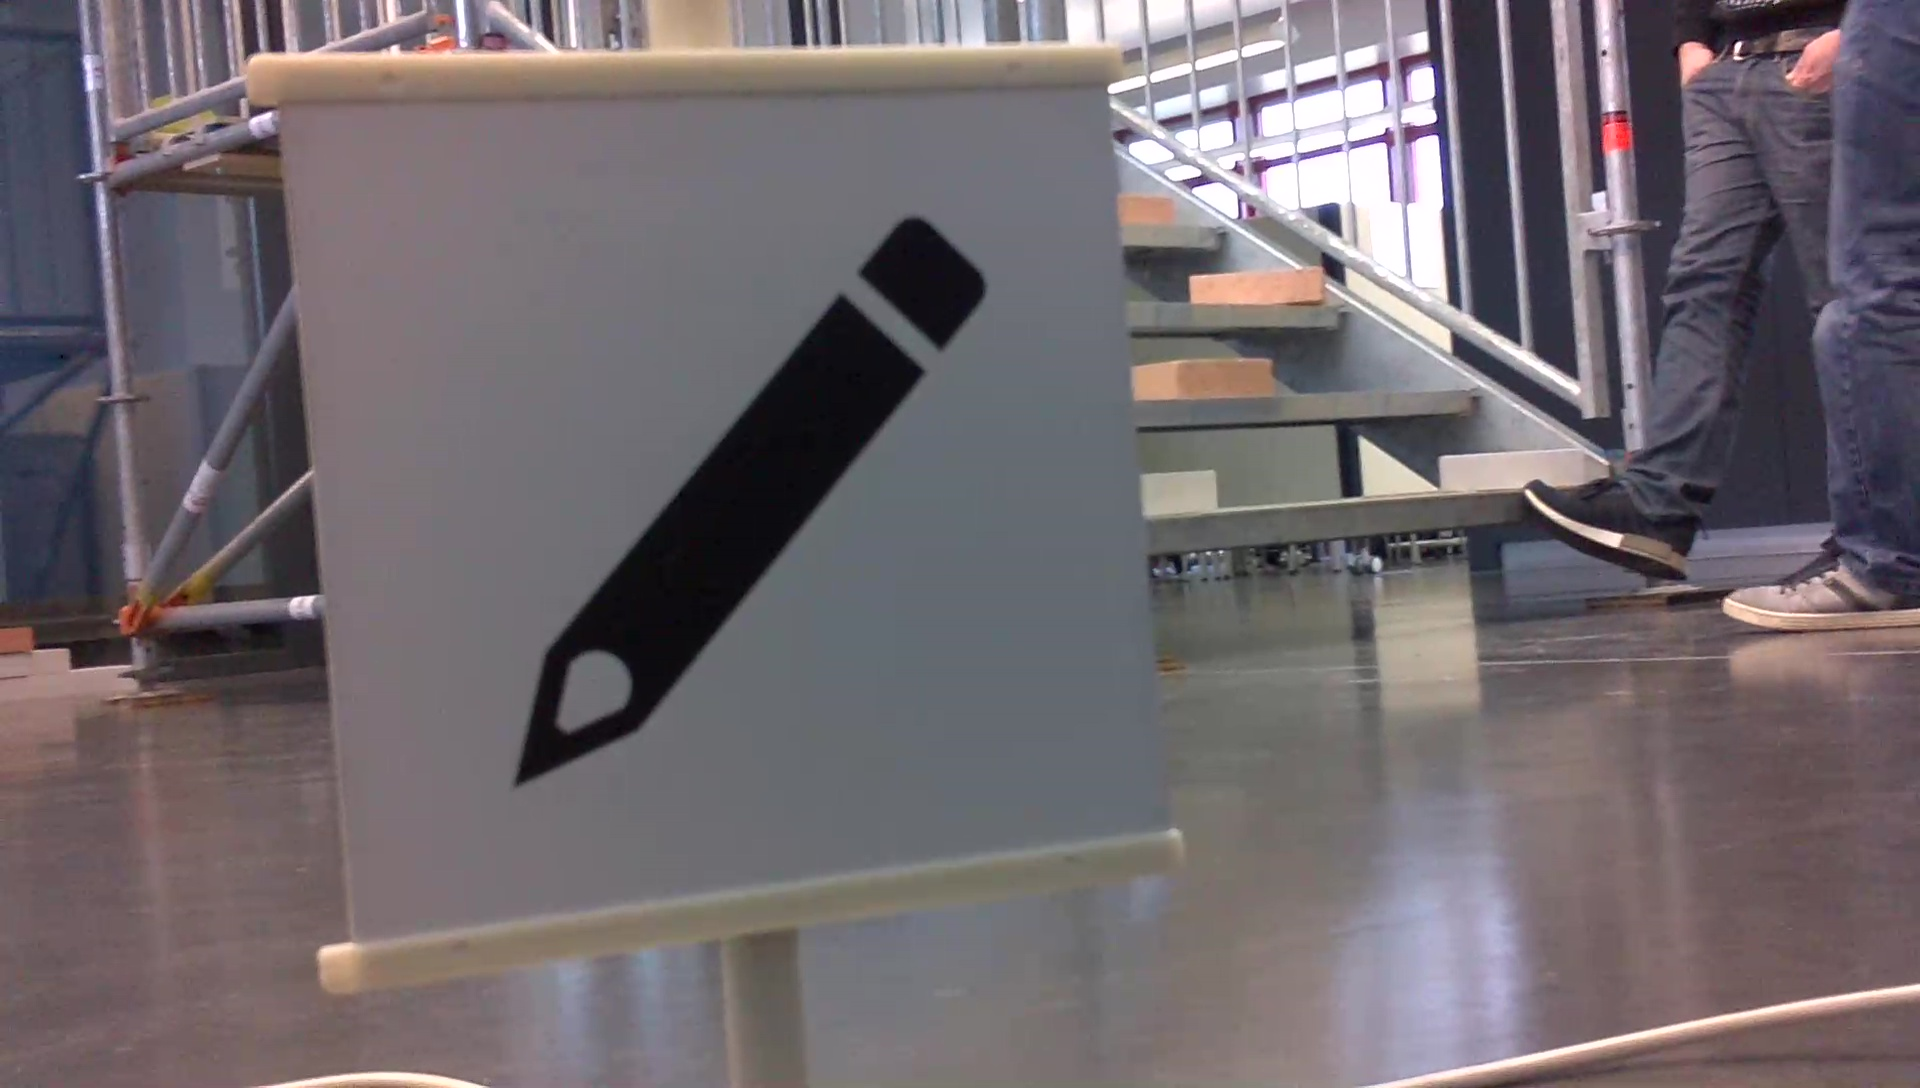brick: (1133, 357, 1270, 400), (1191, 265, 1320, 305), (1443, 452, 1578, 485), (1141, 469, 1212, 510), (1116, 193, 1174, 226)
edge: (1133, 390, 1482, 422), (1125, 302, 1348, 327), (1117, 226, 1232, 248)
pencil: (493, 194, 1005, 803)
